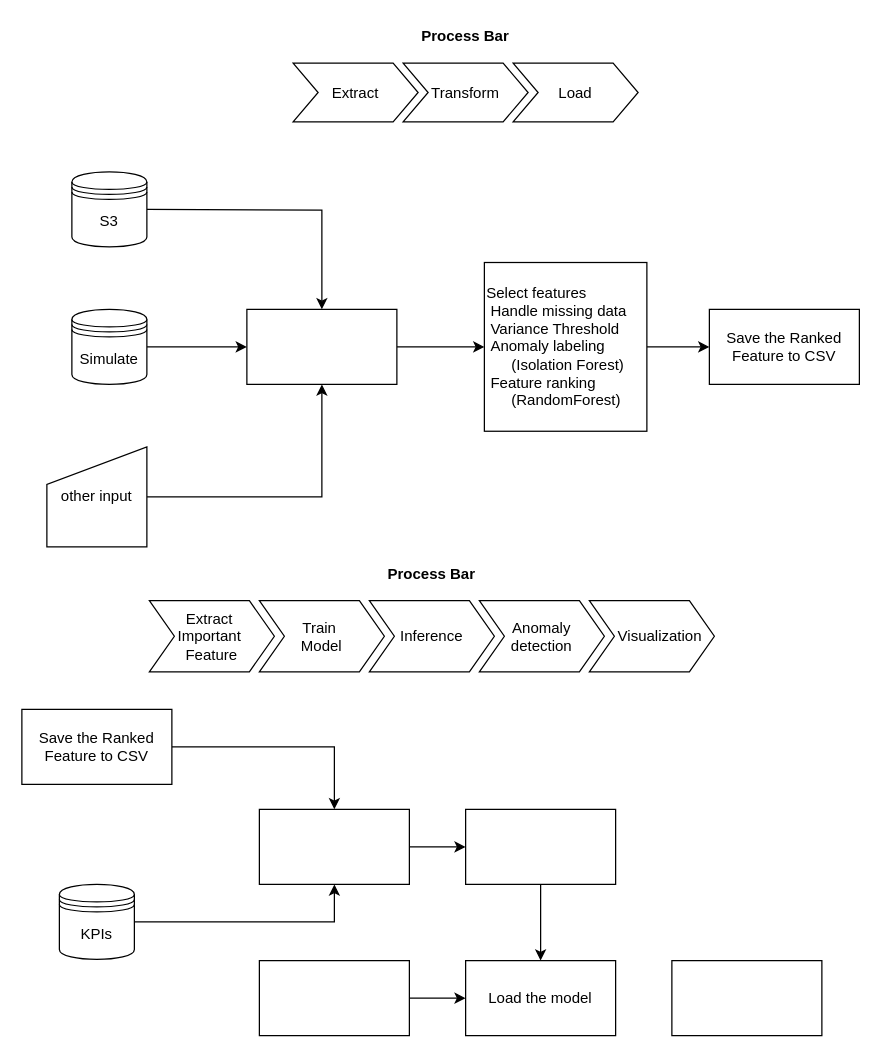
Image size: 881x1058. Some labels were removed from this diagram. The shapes that lost their labels are listed below. From the top down, each one's centre as x and y in pixels, then its label:
pixel 321 346: Extract from all source
pixel 333 846: Train Model using Isolation Forest
pixel 540 846: Save the Model
pixel 333 997: New Kpi Dat
pixel 746 997: Save Anomaly data as csv
